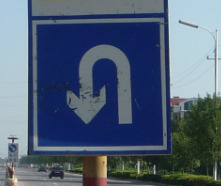u_turn: (27, 0, 170, 155)
